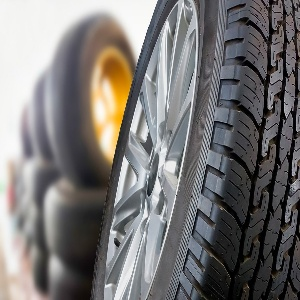tire: (107, 1, 299, 300)
